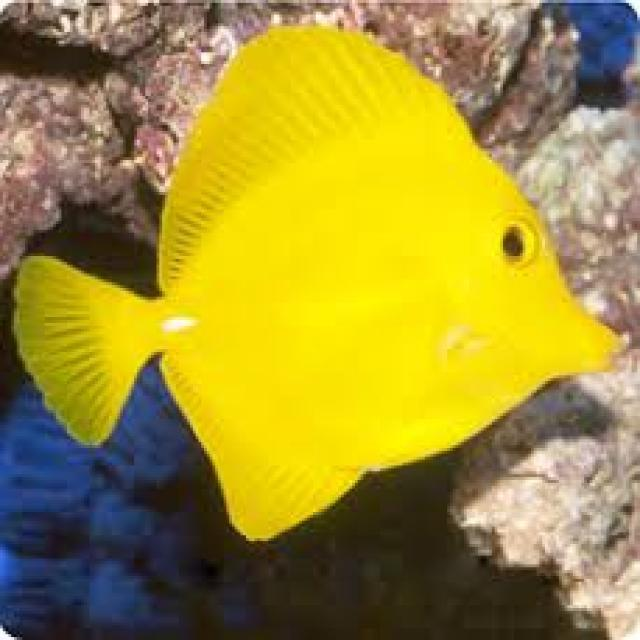YellowTang: (0, 12, 629, 547)
